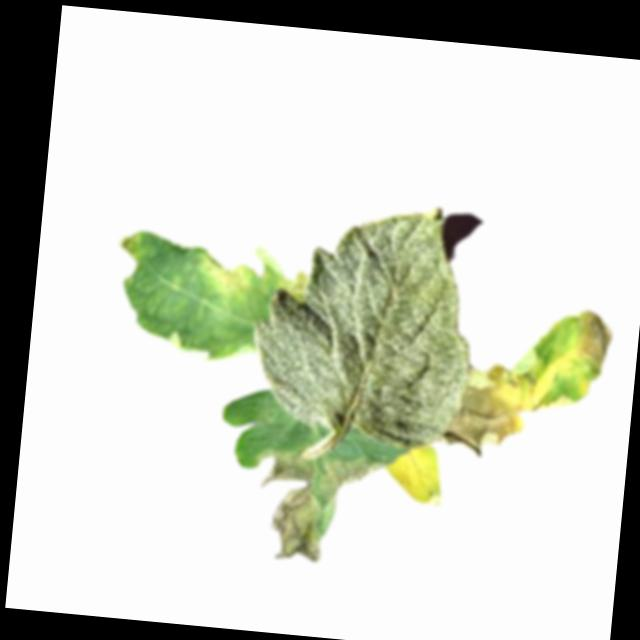Late_blight: (257, 448, 378, 568), (443, 359, 541, 462), (383, 442, 450, 507), (193, 246, 256, 305), (570, 306, 618, 374), (253, 245, 310, 302), (115, 229, 139, 255)
